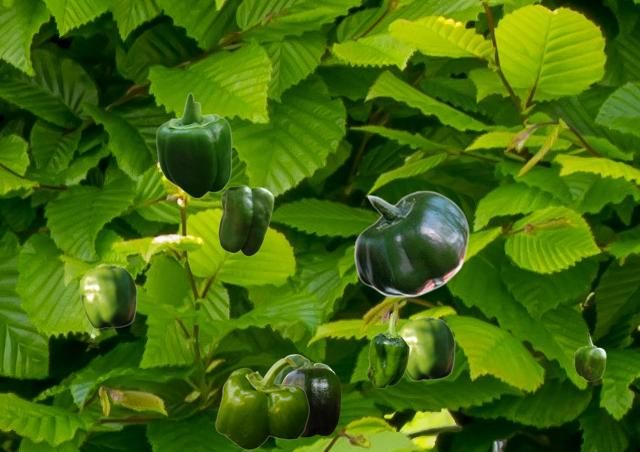bell_pepper: (353, 190, 468, 296), (215, 357, 308, 449), (155, 92, 231, 198), (281, 362, 340, 436), (218, 185, 273, 255), (79, 263, 136, 328), (397, 315, 454, 380), (366, 313, 408, 387), (276, 354, 334, 382), (574, 333, 605, 380)
